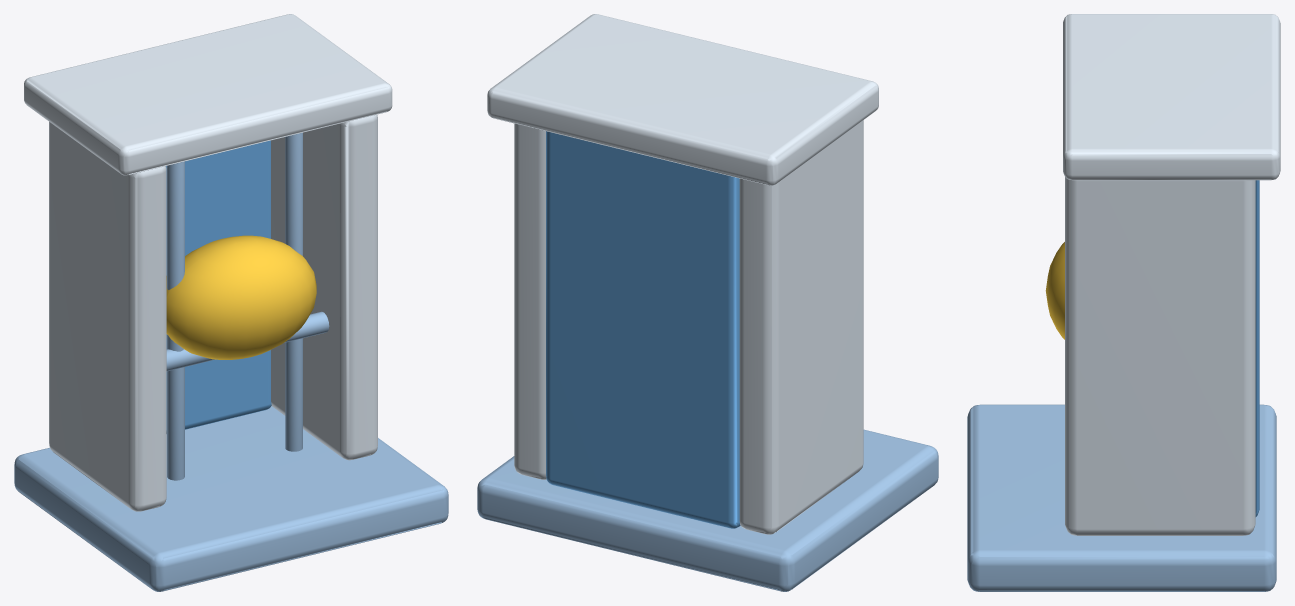
Rendered from pcv_storage_capacity_floatvessel.glb.
3 views of the same model, side by side, from view 1: azimuth 30°, elevation 25°; view 2: azimuth 150°, elevation 25°; view 3: azimuth 270°, elevation 25° (orthographic). The views are drawn at different scales.
Parts seen in each view (by area): view 1: pcv_storage_capacity_floatvessel_MOBILE_JOINED; view 2: pcv_storage_capacity_floatvessel_MOBILE_JOINED; view 3: pcv_storage_capacity_floatvessel_MOBILE_JOINED.
Boxes of the visible parts, x1=… form: pcv_storage_capacity_floatvessel_MOBILE_JOINED: x1=14, y1=14, x2=448, y2=591; pcv_storage_capacity_floatvessel_MOBILE_JOINED: x1=477, y1=14, x2=938, y2=591; pcv_storage_capacity_floatvessel_MOBILE_JOINED: x1=967, y1=14, x2=1280, y2=591.
Size of the model in its own units: 0.96 by 1.27 by 0.82.
